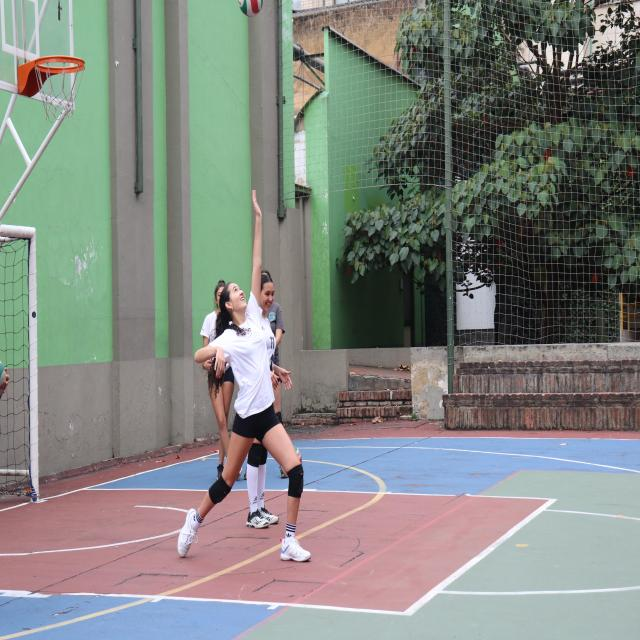volleyball: (238, 1, 264, 16)
